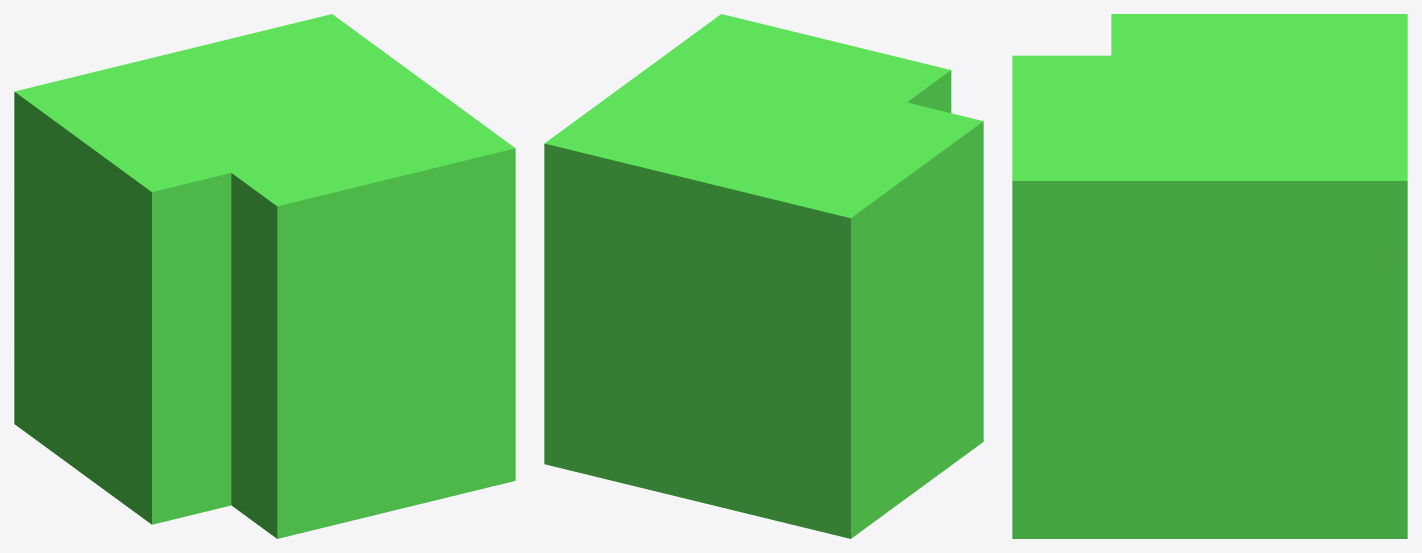
File: Tiles3D_Sol_angle_int_S.fbx
3 views of the same model, side by side, from view 1: azimuth 30°, elevation 25°; view 2: azimuth 150°, elevation 25°; view 3: azimuth 270°, elevation 25° (orthographic). The views are drawn at different scales.
Parts seen in each view (by area): view 1: Tiles3D_sol_angle_int_S; view 2: Tiles3D_sol_angle_int_S; view 3: Tiles3D_sol_angle_int_S.
Boxes of the visible parts, x1=… form: Tiles3D_sol_angle_int_S: x1=14, y1=14, x2=515, y2=538; Tiles3D_sol_angle_int_S: x1=544, y1=14, x2=983, y2=538; Tiles3D_sol_angle_int_S: x1=1012, y1=14, x2=1407, y2=538.
Bounding box in the file's own units: 100 × 100 × 100.
1 material, 1 textured.
